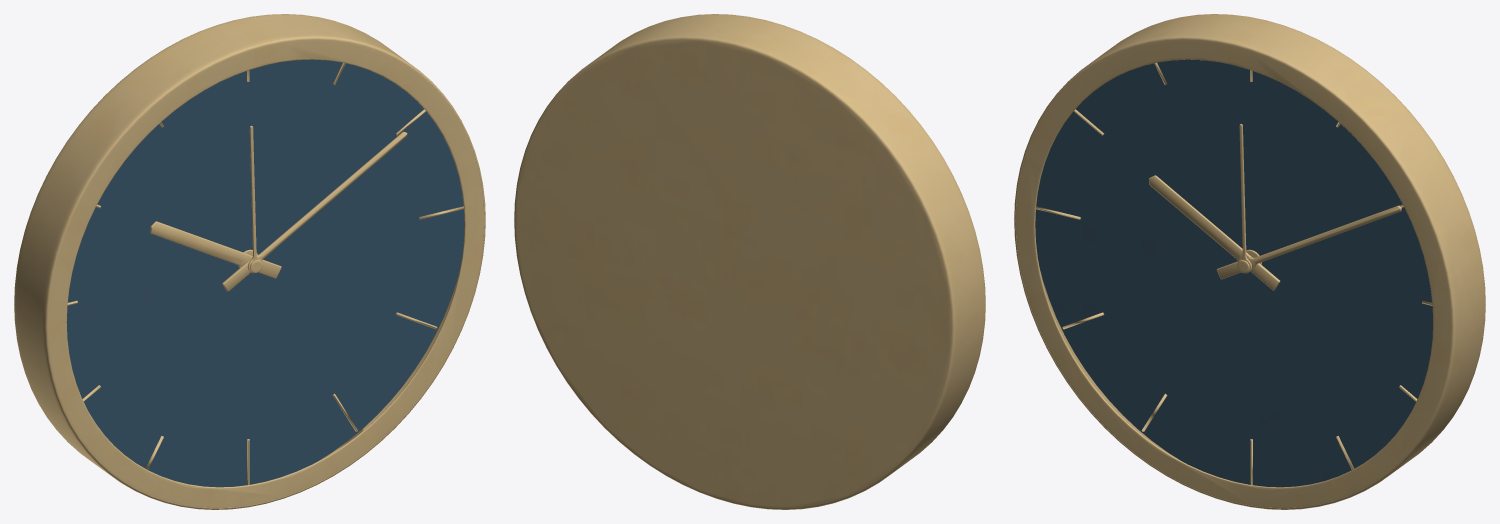
The model's file is B07B8PXJJW.glb.
The picture shows the model from 3 angles, left to right: view 1: azimuth 30°, elevation 25°; view 2: azimuth 150°, elevation 25°; view 3: azimuth 330°, elevation 25°; orthographic projection.
Visible parts, largest first — view 1: RootNode; view 2: RootNode; view 3: RootNode.
Boxes of the visible parts, x1,y1,x2,y2 form: RootNode: (14, 14, 485, 509); RootNode: (514, 14, 985, 509); RootNode: (1014, 14, 1485, 509).
Bounding box in the file's own units: 0.3135 × 0.3135 × 0.0405.
Materials: 1 (1 with a texture image).
